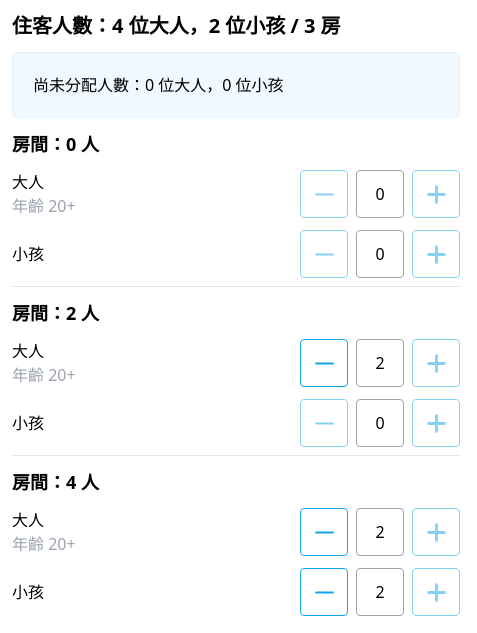
Test case: RoomAllocation › increments/decrements value when increment/decrement button is clicked
This screenshot has width=477, height=633.
What coordinates should you click on to do the following:
click the button named "room-1-adult-decrement"
I would click on:
 (324, 363)
Its box is [300,339,348,387].
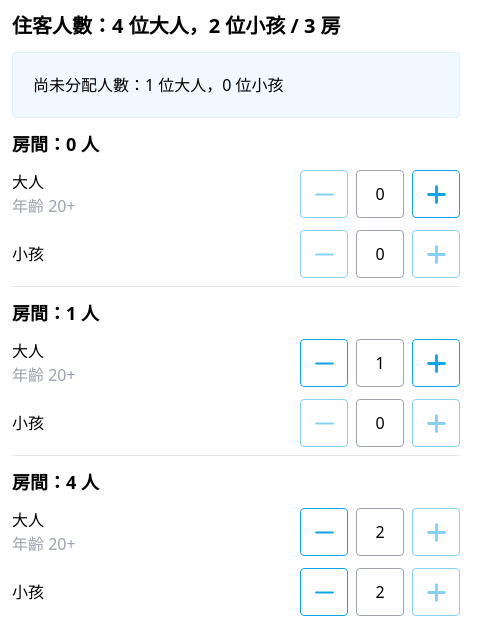
Result: the number field named "room-1-adult-count" holds "1" at [356,339,404,387]
What coordinates should you click on to do the following:
click the button named "room-1-adult-increment"
I would click on:
 (436, 363)
Its box is [412,339,460,387].
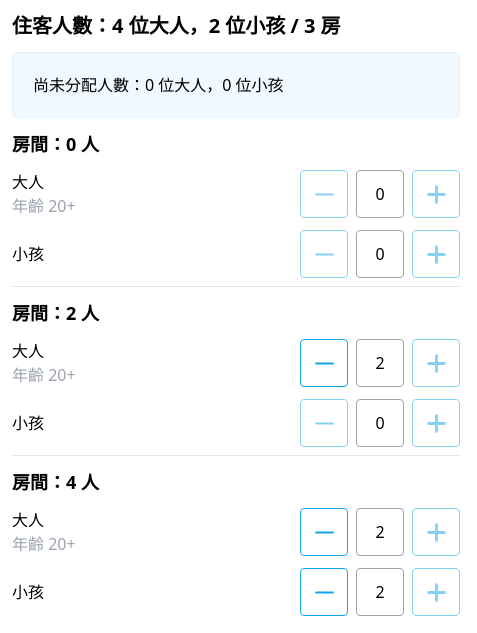
Result: the number field named "room-1-adult-count" holds "2" at [356,339,404,387]
